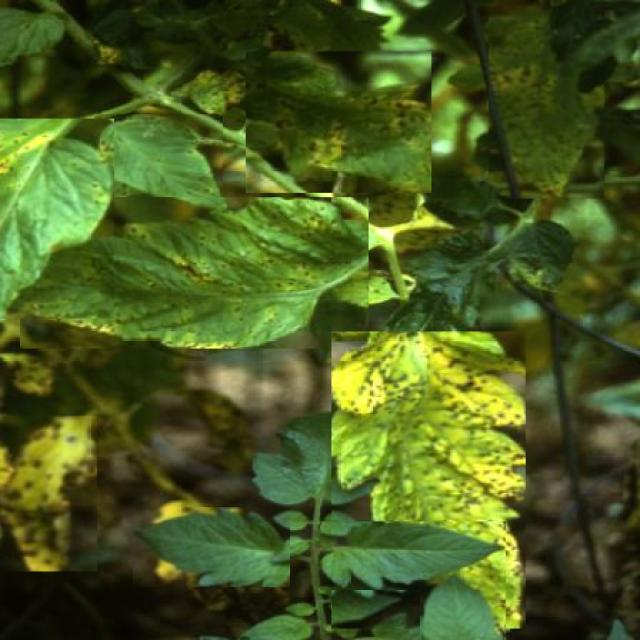Healthy: (320, 522, 506, 591), (133, 508, 290, 588), (420, 571, 506, 640)
Septoria: (331, 332, 526, 628), (21, 198, 369, 349), (247, 51, 432, 193), (0, 118, 114, 318), (489, 5, 604, 198), (1, 416, 98, 571), (94, 115, 222, 222)
